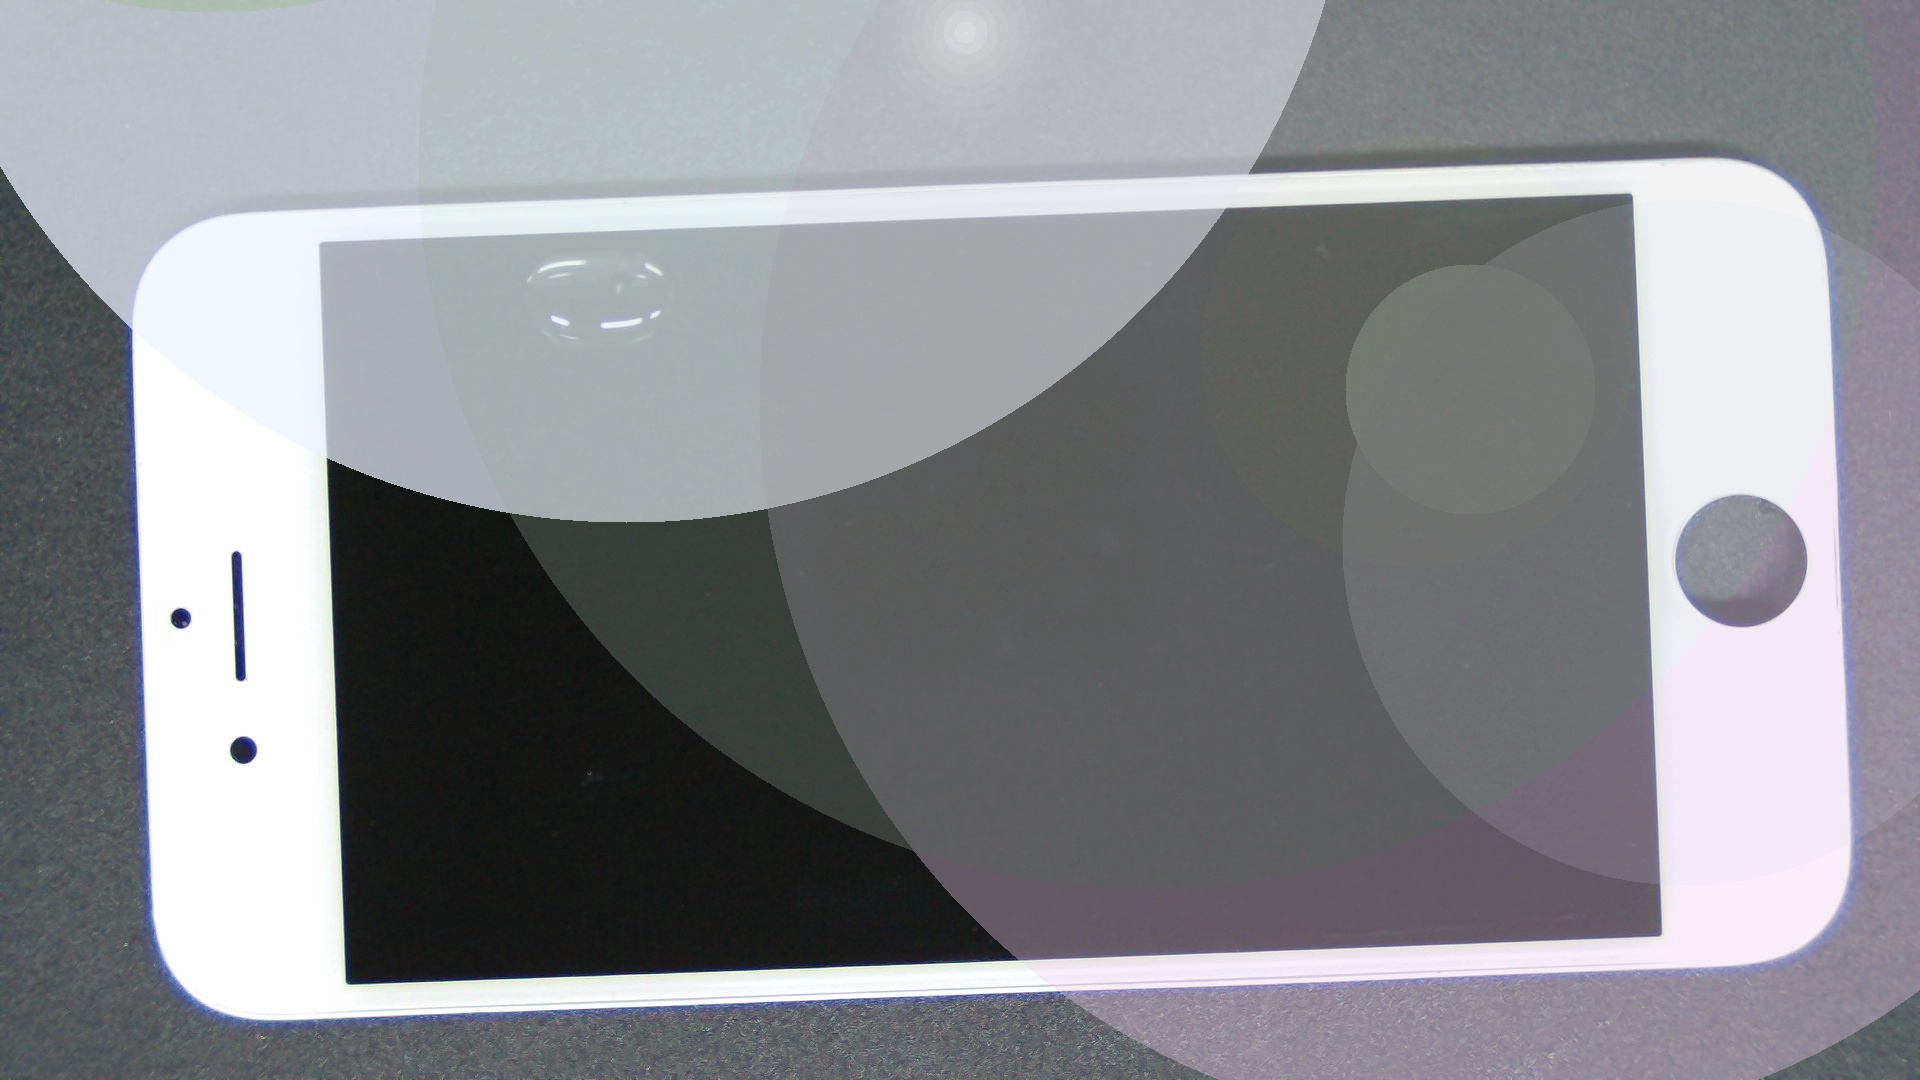oil: (309, 124, 924, 375)
